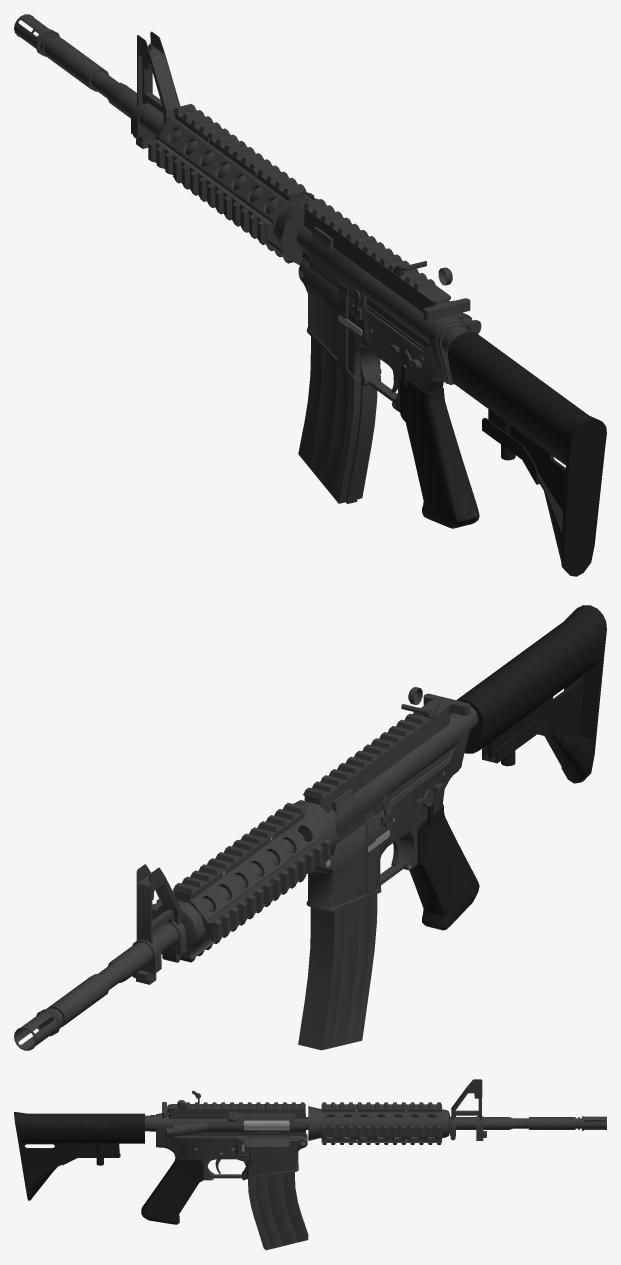
The model's file is vx4_pbr.glb.
3 views of the same model, one above another, from view 1: azimuth 30°, elevation 25°; view 2: azimuth 150°, elevation 25°; view 3: azimuth 270°, elevation 25° (orthographic). The views are drawn at different scales.
Visible parts, largest first — view 1: Body, Magazine; view 2: Body, Magazine; view 3: Body, Magazine.
Part boxes in pixels (x1,y1,x2,y2): Body: (14,14,606,576); Magazine: (298,336,377,503); Body: (14,605,606,1050); Magazine: (298,894,377,1050); Body: (14,1079,606,1224); Magazine: (248,1172,308,1250).
Bounding box in the file's own units: 0.0696 × 0.2915 × 0.94.
Materials: 1 (1 with a texture image).
